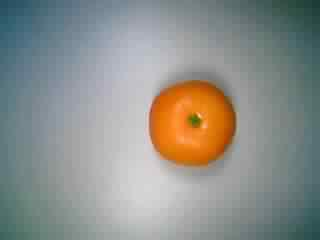orange: (143, 68, 238, 170)
